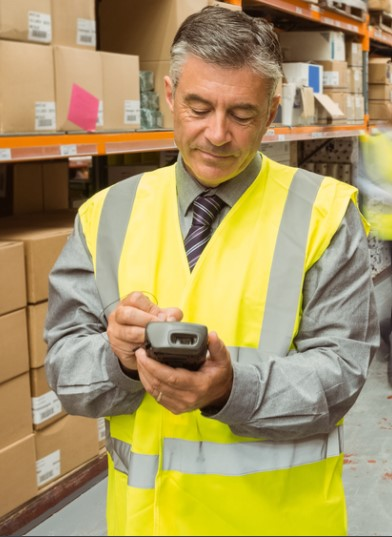worker: (75, 11, 354, 537)
